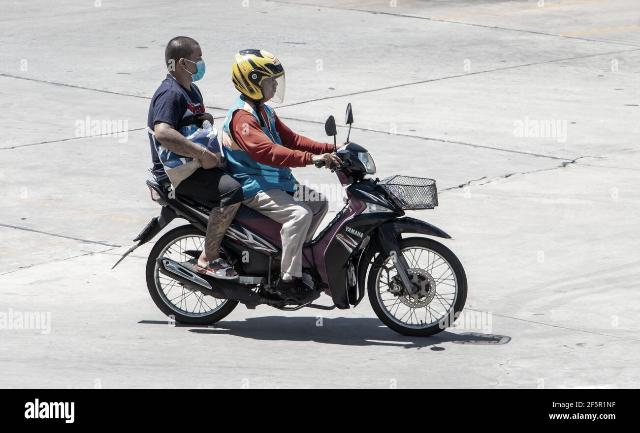helm: (234, 50, 287, 104)
motor: (146, 101, 468, 339)
non-helm: (167, 37, 206, 83)
